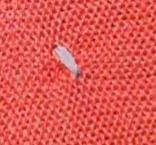hole: (50, 41, 82, 82)
